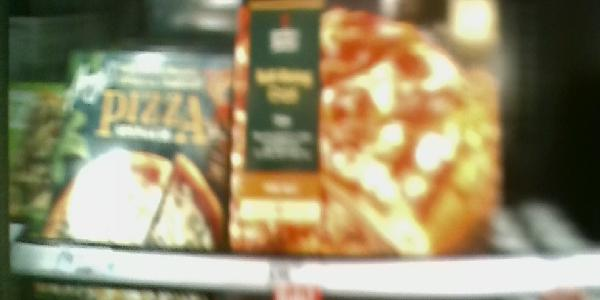pizza1: (231, 1, 497, 256), (39, 46, 231, 252)
